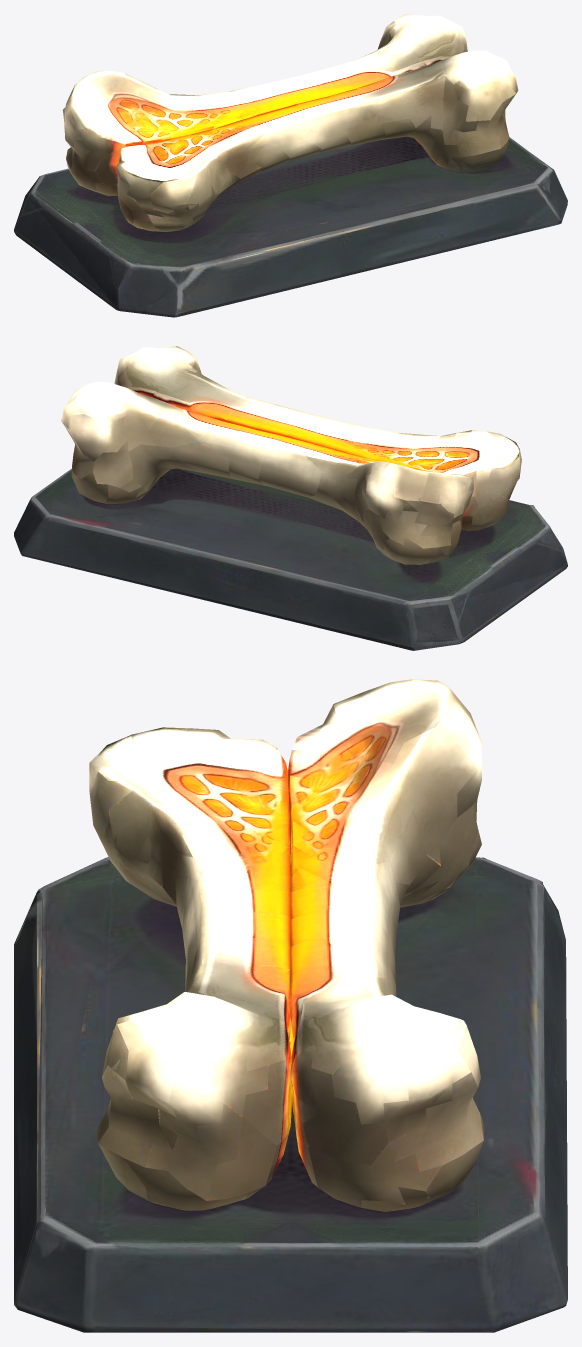
Rendered from bone_marrow.glb.
3 views of the same model, one above another, from view 1: azimuth 30°, elevation 25°; view 2: azimuth 150°, elevation 25°; view 3: azimuth 270°, elevation 25° (orthographic). The views are drawn at different scales.
Size of the model in its own units: 1 by 0.332 by 0.5664.
1 material, 1 textured.
